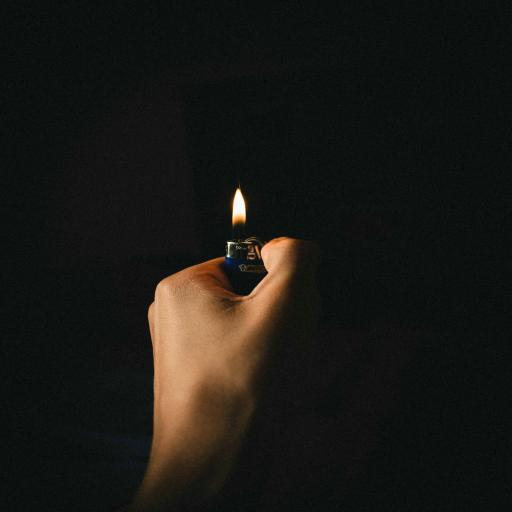lighter: (169, 156, 303, 298)
